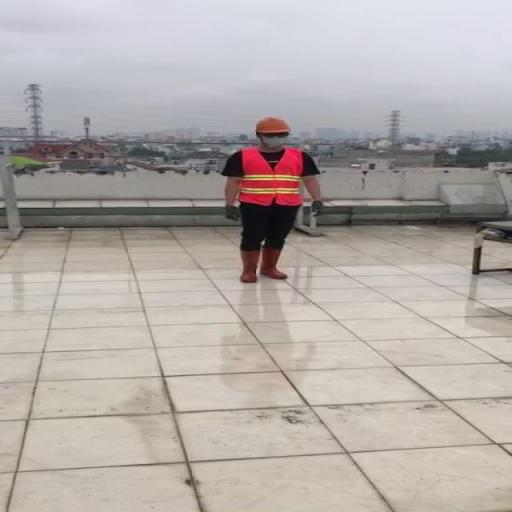Boots: (259, 243, 290, 280), (239, 248, 264, 283)
Helmet: (252, 116, 292, 134)
Person: (215, 112, 328, 284)
